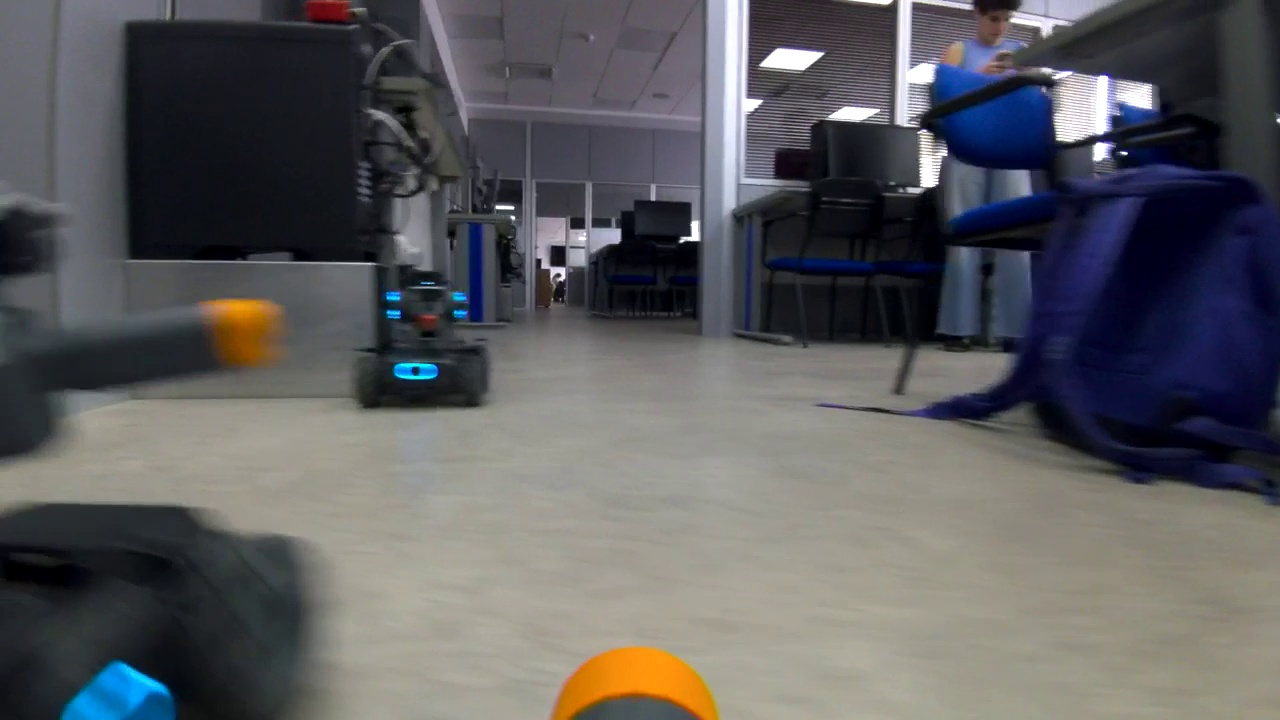robot: (341, 248, 500, 417)
